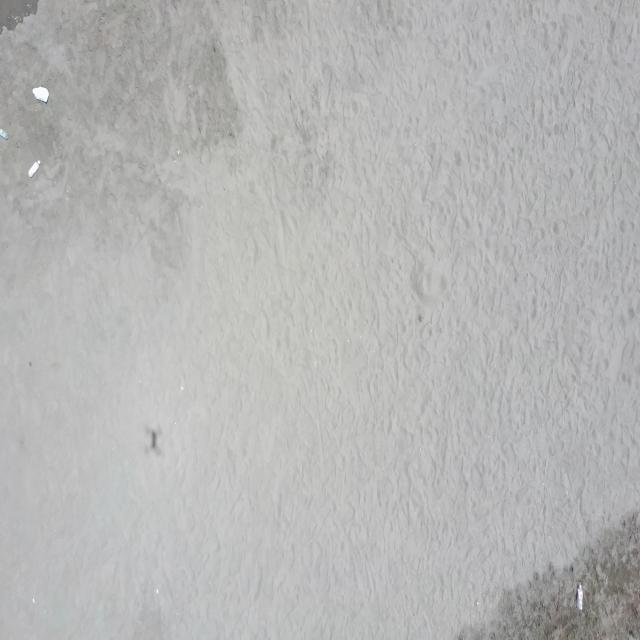plastic-bottle: (31, 85, 51, 106), (27, 159, 41, 179), (576, 584, 584, 612), (0, 128, 9, 144)
